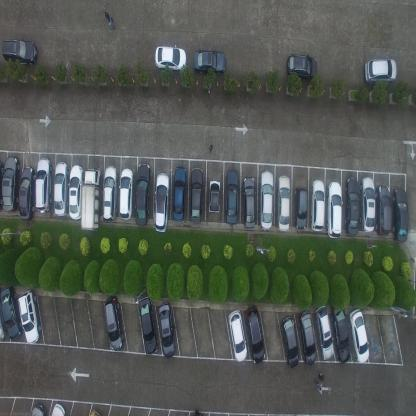car: (80, 165, 101, 231), (17, 289, 42, 344), (0, 153, 21, 213), (104, 294, 125, 352), (0, 285, 22, 340), (138, 296, 158, 356), (245, 304, 265, 364), (331, 302, 350, 364), (349, 308, 370, 364), (227, 307, 247, 363), (315, 305, 334, 361), (153, 171, 170, 233), (158, 301, 176, 359), (1, 38, 37, 67), (135, 162, 151, 226), (364, 56, 397, 86), (154, 43, 187, 73), (67, 164, 84, 222), (102, 164, 118, 224), (281, 315, 299, 368), (35, 157, 52, 213), (18, 166, 35, 222), (259, 168, 274, 231), (344, 177, 360, 236), (193, 48, 226, 76), (360, 175, 376, 232), (392, 187, 408, 244), (288, 52, 318, 82), (300, 310, 316, 366), (189, 166, 204, 224), (327, 180, 342, 238), (172, 165, 187, 221), (376, 184, 392, 236), (118, 167, 134, 219), (310, 179, 325, 234), (54, 161, 68, 217), (242, 174, 256, 228), (277, 174, 290, 232), (225, 169, 238, 225), (293, 184, 308, 231), (207, 178, 221, 214), (29, 402, 46, 416), (51, 402, 66, 416)
